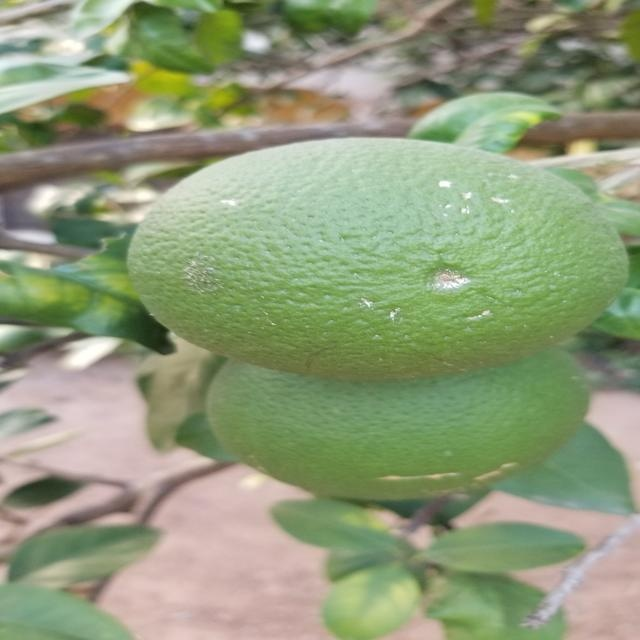agrume: (114, 138, 630, 378), (176, 346, 601, 506)
